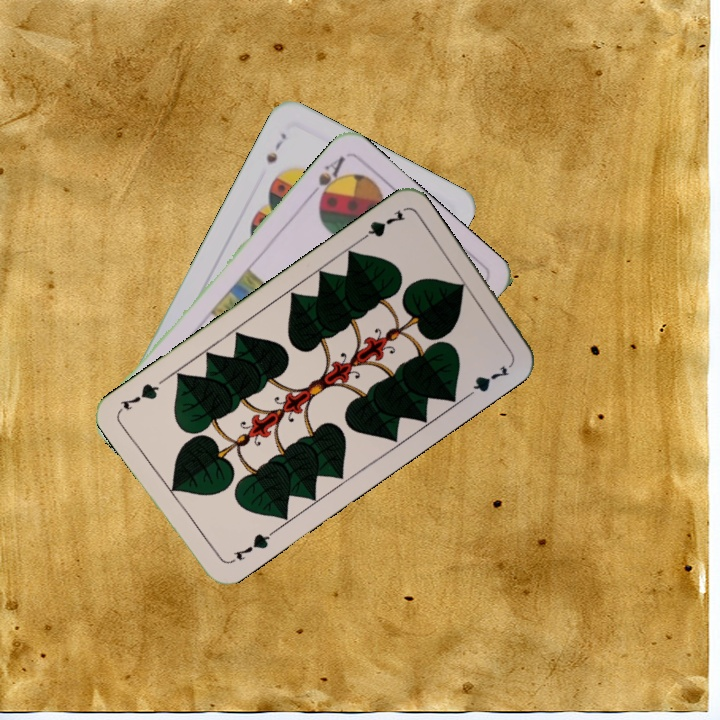G7: (353, 206, 408, 246), (229, 527, 277, 563)
S7: (261, 129, 289, 166)
SA: (304, 151, 349, 207)
